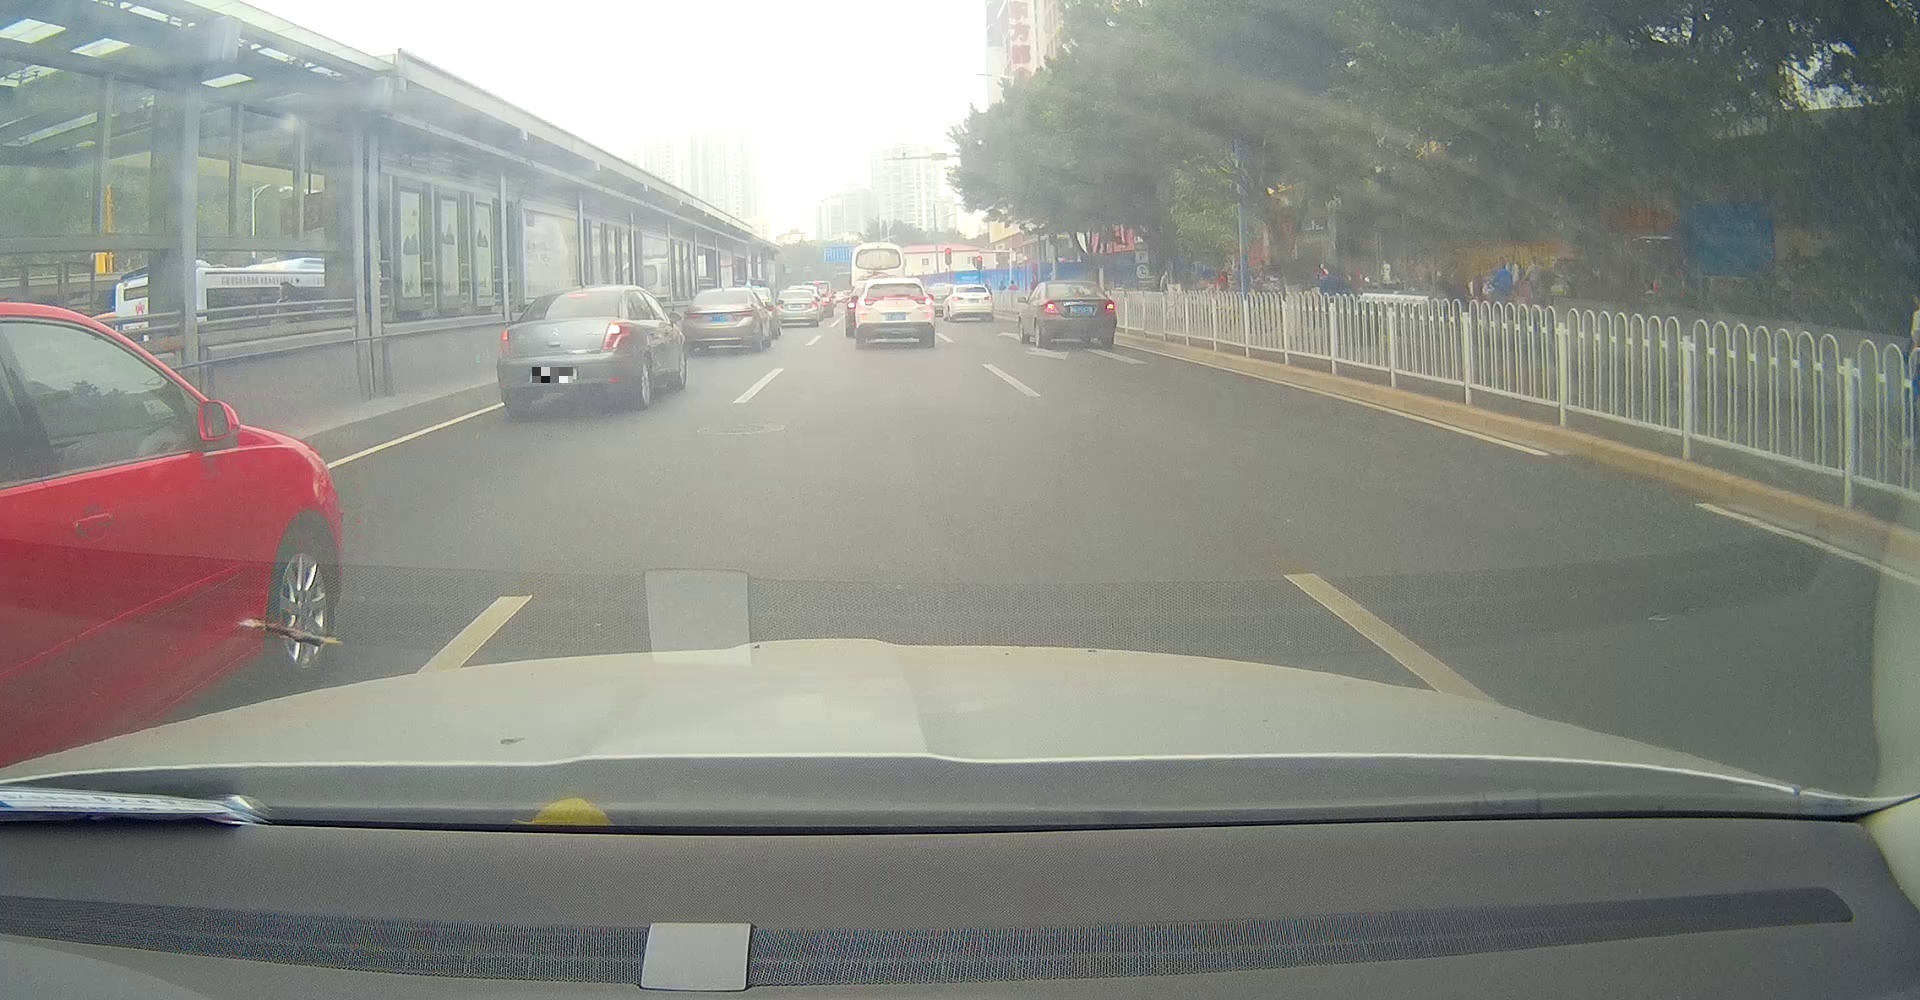L_light: (499, 327, 510, 357), (857, 297, 877, 307), (1045, 299, 1059, 313), (684, 310, 703, 319), (952, 296, 964, 301), (776, 305, 785, 310)
R_light: (601, 321, 632, 350), (730, 306, 753, 316), (1103, 299, 1116, 313), (912, 297, 931, 305), (809, 301, 818, 308), (983, 296, 992, 301)
T_light: (568, 293, 587, 298), (884, 296, 907, 299), (717, 291, 730, 294), (1072, 294, 1083, 298), (792, 292, 800, 294), (968, 286, 974, 288)
day-brake: (497, 284, 632, 414), (855, 278, 935, 349), (1044, 280, 1117, 348)
day-no: (682, 288, 756, 357), (776, 289, 819, 327), (951, 284, 993, 322)
plate_1: (532, 367, 573, 383)
